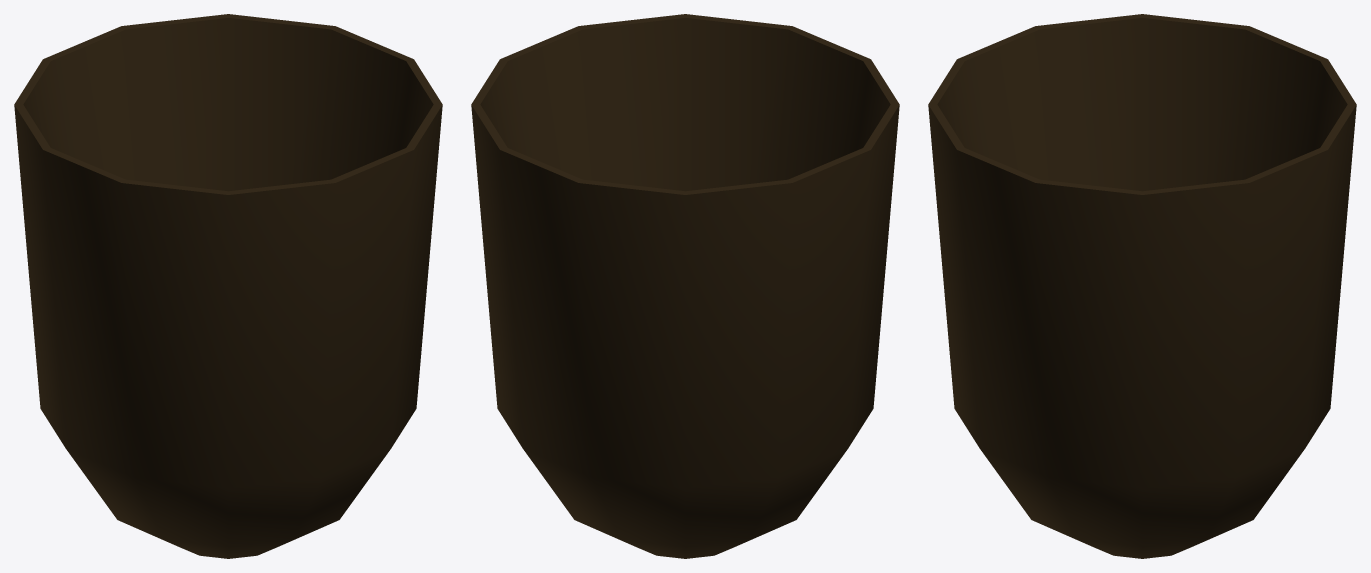
The model's file is Trash Can.fbx.
3 renders of one model, left to right at view 1: azimuth 30°, elevation 25°; view 2: azimuth 150°, elevation 25°; view 3: azimuth 270°, elevation 25°, orthographic.
Visible parts, largest first — view 1: Cylinder; view 2: Cylinder; view 3: Cylinder.
Part boxes in pixels (x1,y1,x2,y2): Cylinder: [14, 14, 442, 558]; Cylinder: [471, 14, 899, 558]; Cylinder: [928, 14, 1356, 558].
Bounding box in the file's own units: 200 × 221 × 200.
